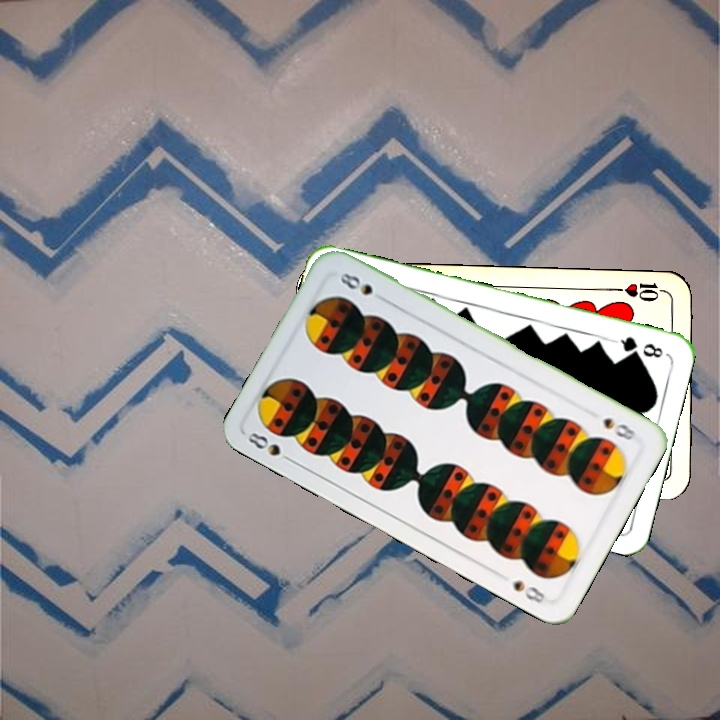G8: (610, 332, 666, 361)
H10: (610, 278, 669, 304)
S8: (242, 428, 297, 466), (599, 413, 639, 444)
